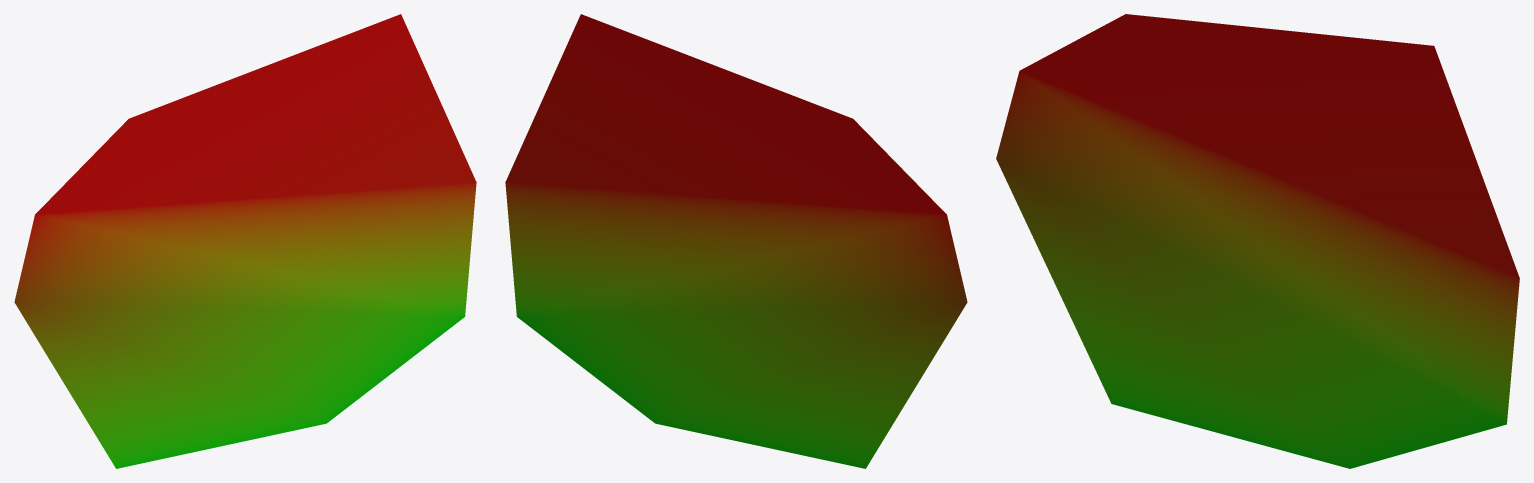
File: Butterfly Weed_LOD4_Var10.fbx
3 renders of one model, left to right at view 1: azimuth 30°, elevation 25°; view 2: azimuth 150°, elevation 25°; view 3: azimuth 330°, elevation 25°, orthographic. The views are drawn at different scales.
Parts seen in each view (by area): view 1: _a570_Var10_LOD4; view 2: _a570_Var10_LOD4; view 3: _a570_Var10_LOD4.
Boxes of the visible parts, x1,y1,x2,y2 form: _a570_Var10_LOD4: [14, 14, 476, 468]; _a570_Var10_LOD4: [505, 14, 967, 468]; _a570_Var10_LOD4: [996, 14, 1519, 468].
Size of the model in its own units: 54.37 by 44.01 by 2.61e-06.
